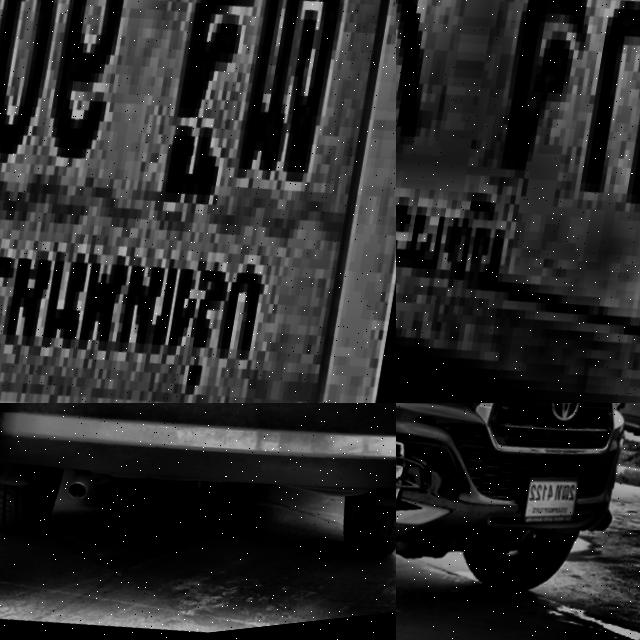license-plate: (0, 0, 396, 403), (396, 0, 640, 403), (511, 476, 586, 561)
